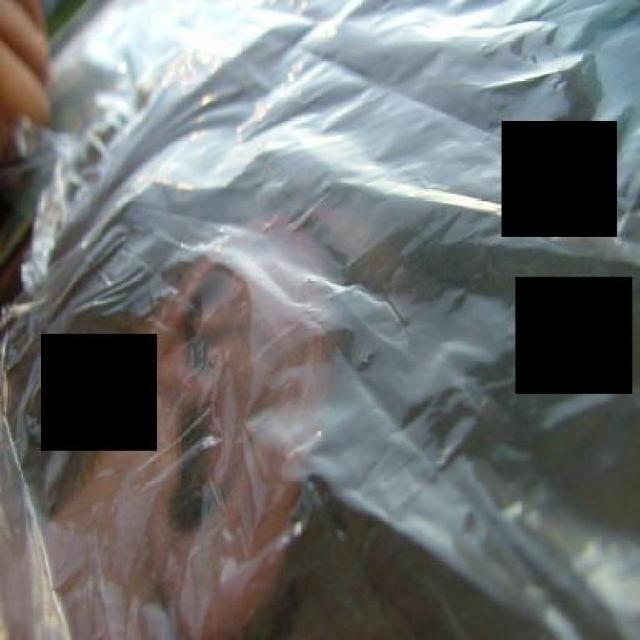plastic bag: (12, 17, 614, 640)
